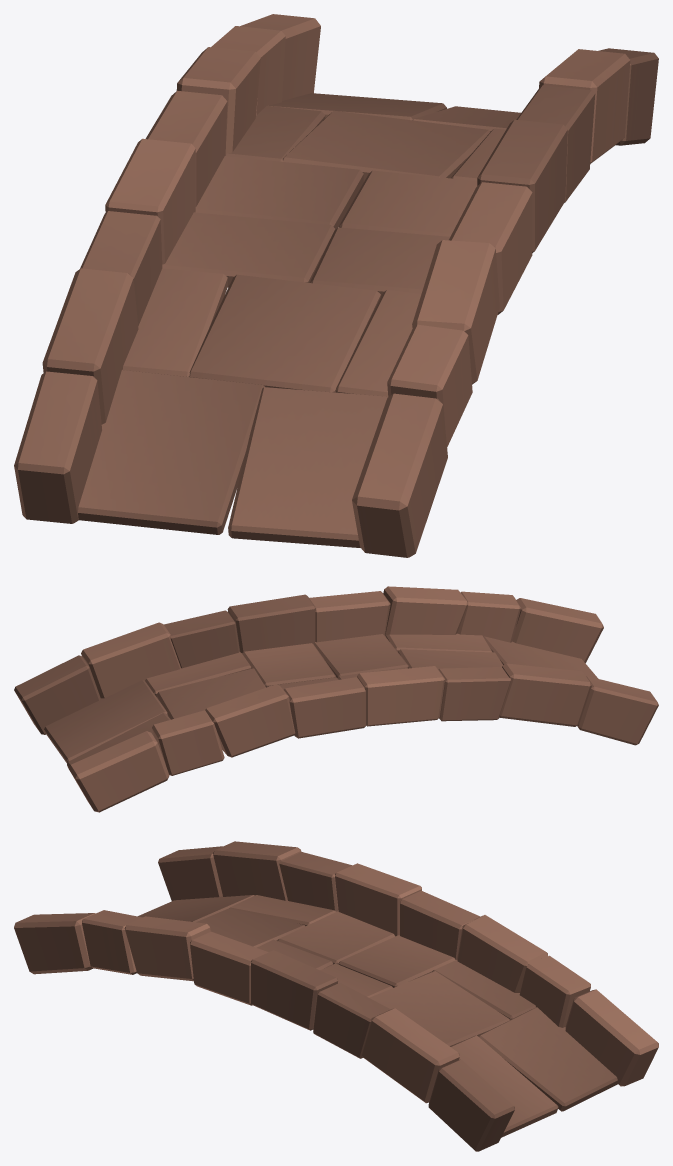
Rendered from mdl_bridge.fbx.
3 views of the same model, one above another, from view 1: azimuth 30°, elevation 25°; view 2: azimuth 150°, elevation 25°; view 3: azimuth 270°, elevation 25° (orthographic). The views are drawn at different scales.
Parts seen in each view (by area): view 1: mdl_bridge.001, mdl_bridge; view 2: mdl_bridge, mdl_bridge.001; view 3: mdl_bridge, mdl_bridge.001.
Boxes of the visible parts, box(x1,y1,x2,y2) form: mdl_bridge.001: box(78, 93, 520, 547); mdl_bridge: box(14, 14, 658, 557); mdl_bridge: box(14, 586, 658, 812); mdl_bridge.001: box(44, 633, 598, 768); mdl_bridge: box(14, 841, 658, 1151); mdl_bridge.001: box(138, 895, 617, 1137).
Bounding box in the file's own units: 25.77 × 4.71 × 26.44.
